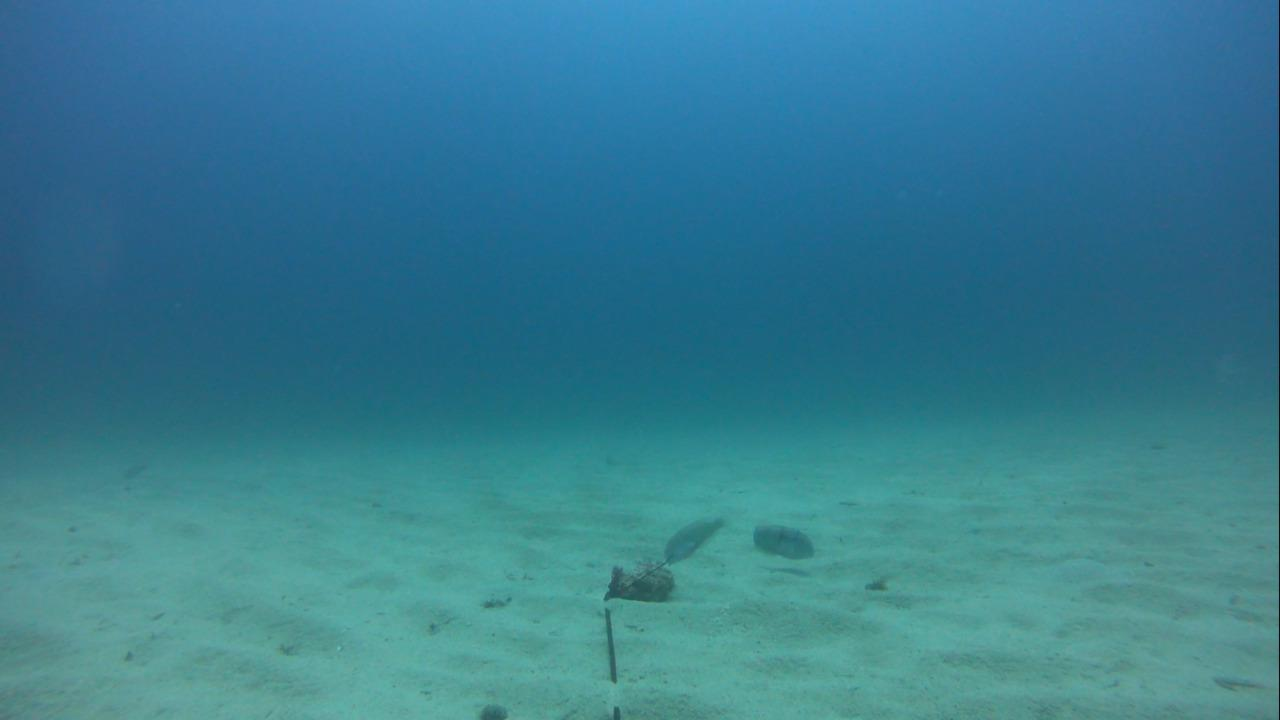raor: (660, 514, 723, 573), (743, 519, 819, 563)
